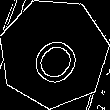O_NE: (21, 20, 87, 86)
